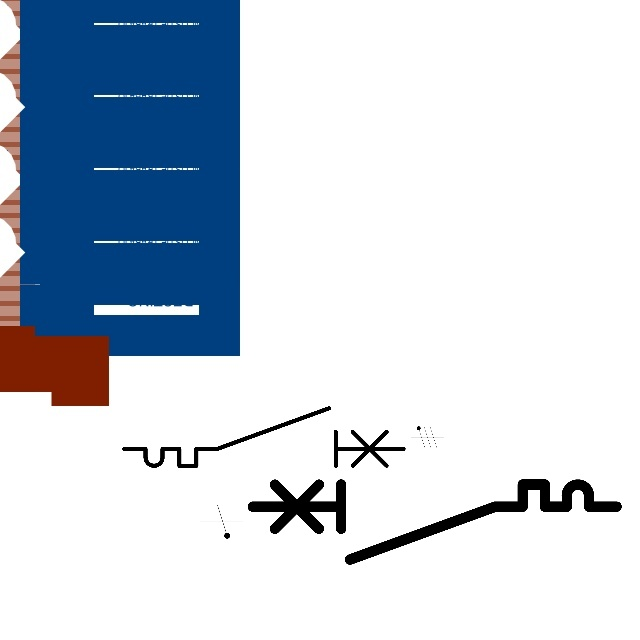interruptor_termomagnetico: (243, 475, 626, 568), (117, 401, 411, 473)
